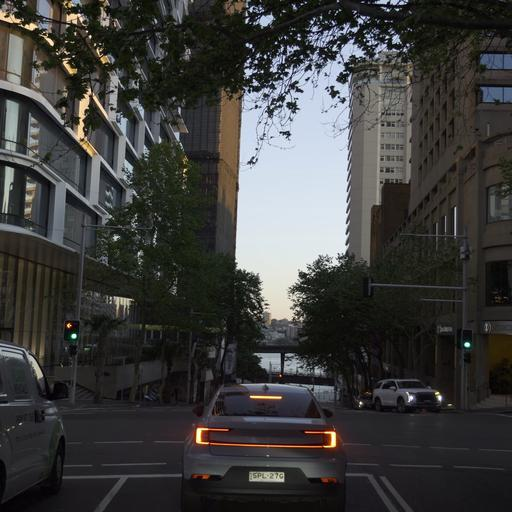Street light: (362, 230, 471, 410), (68, 221, 154, 405), (63, 319, 79, 342)
